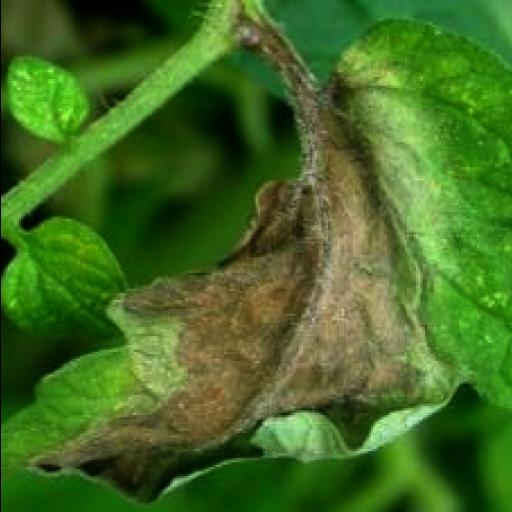disease_tomato: (2, 7, 512, 510)
